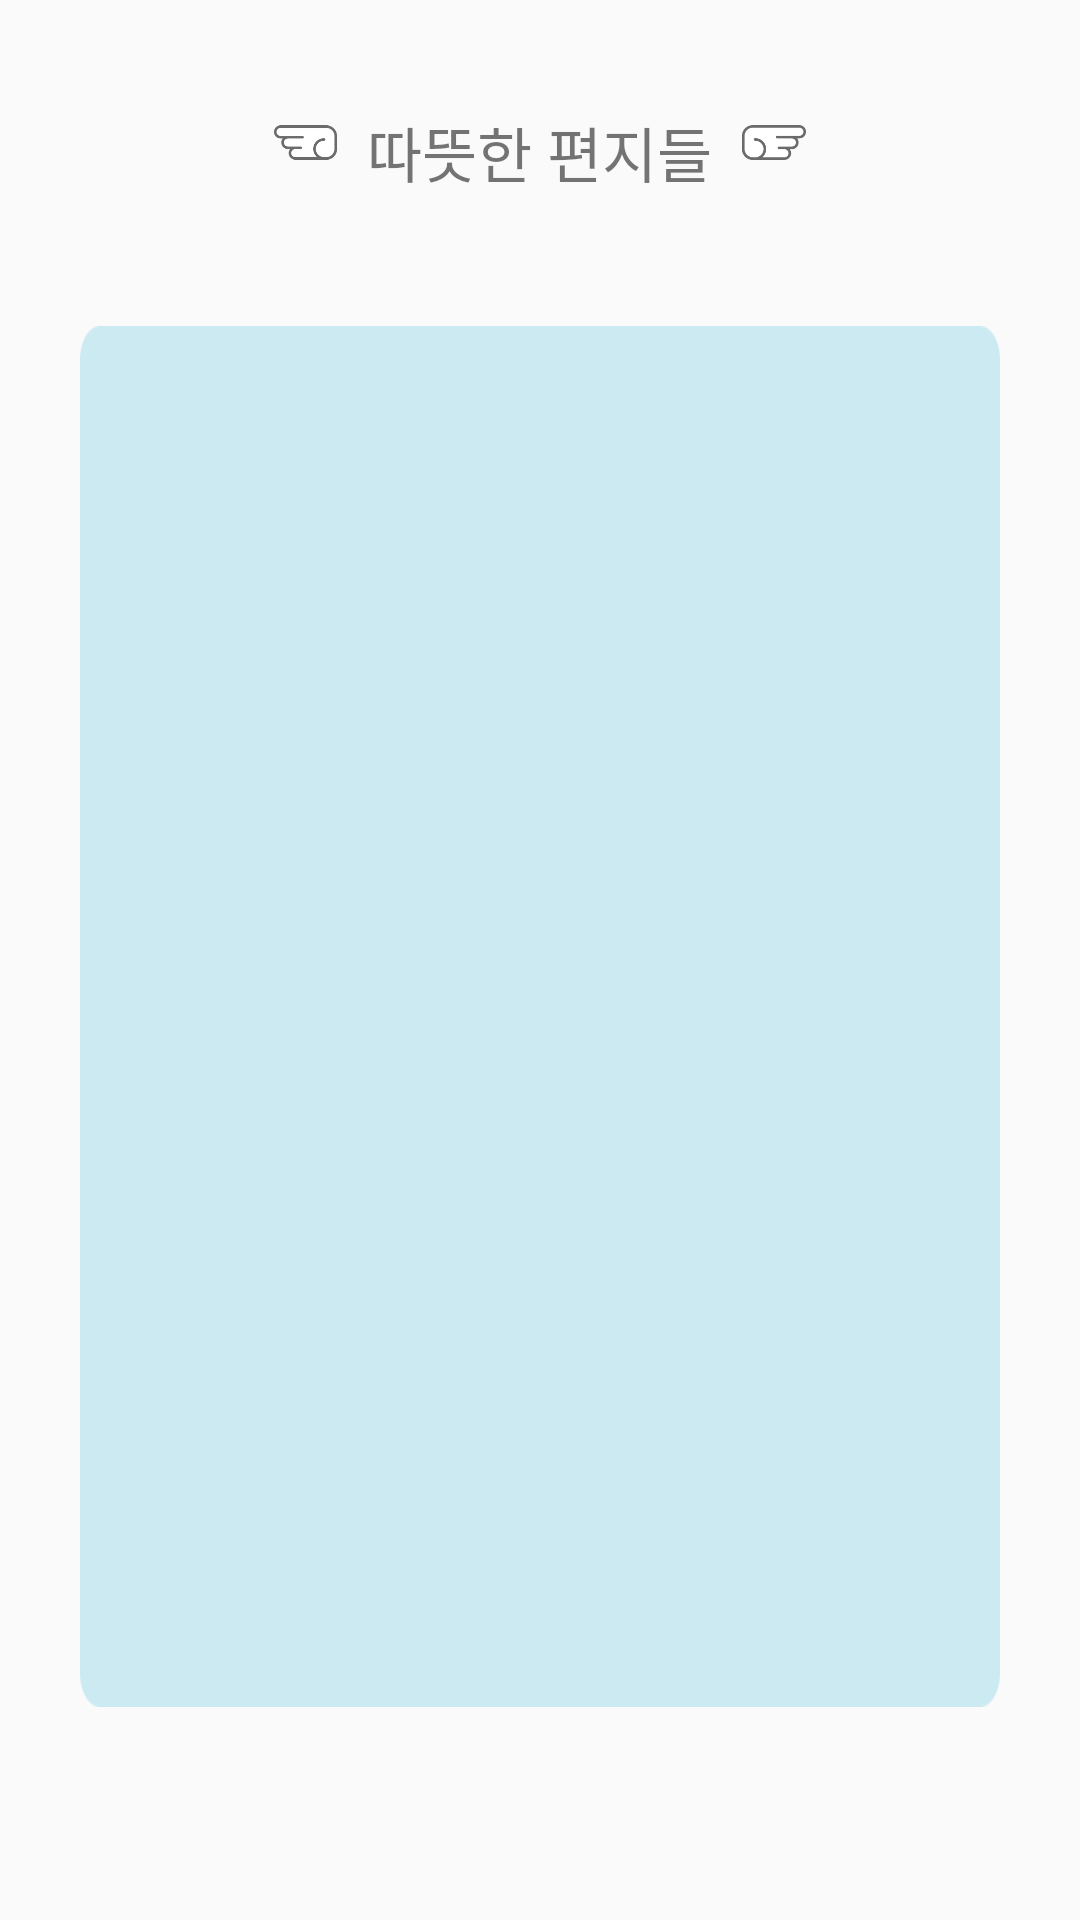

Point at icon controls on the screen. Image size 1080*1920, points as (x,y).
wing left: (305,142)
wing right: (774,142)
